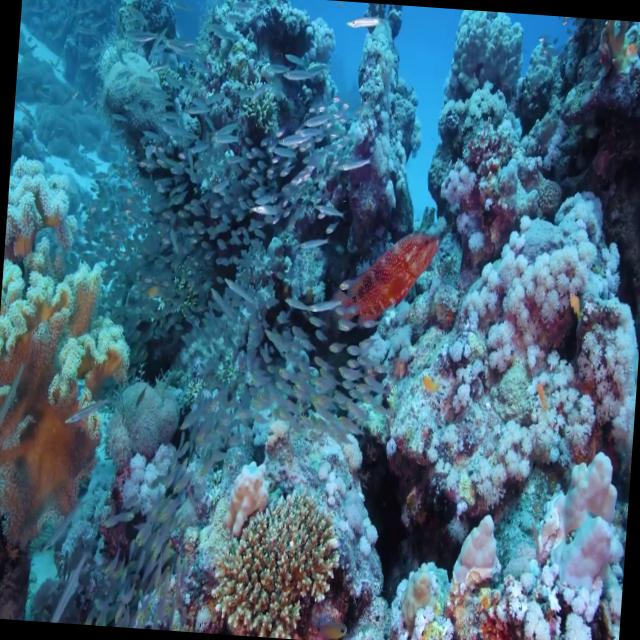fish: (320, 218, 442, 340)
